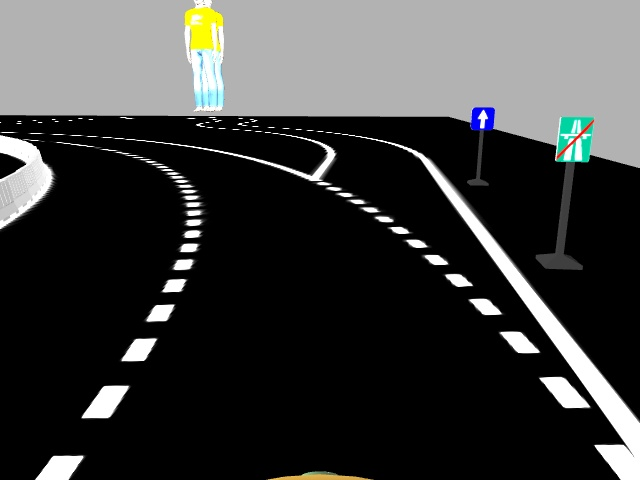HighwayExit: (557, 114, 589, 161)
OneWay: (471, 106, 494, 130)
